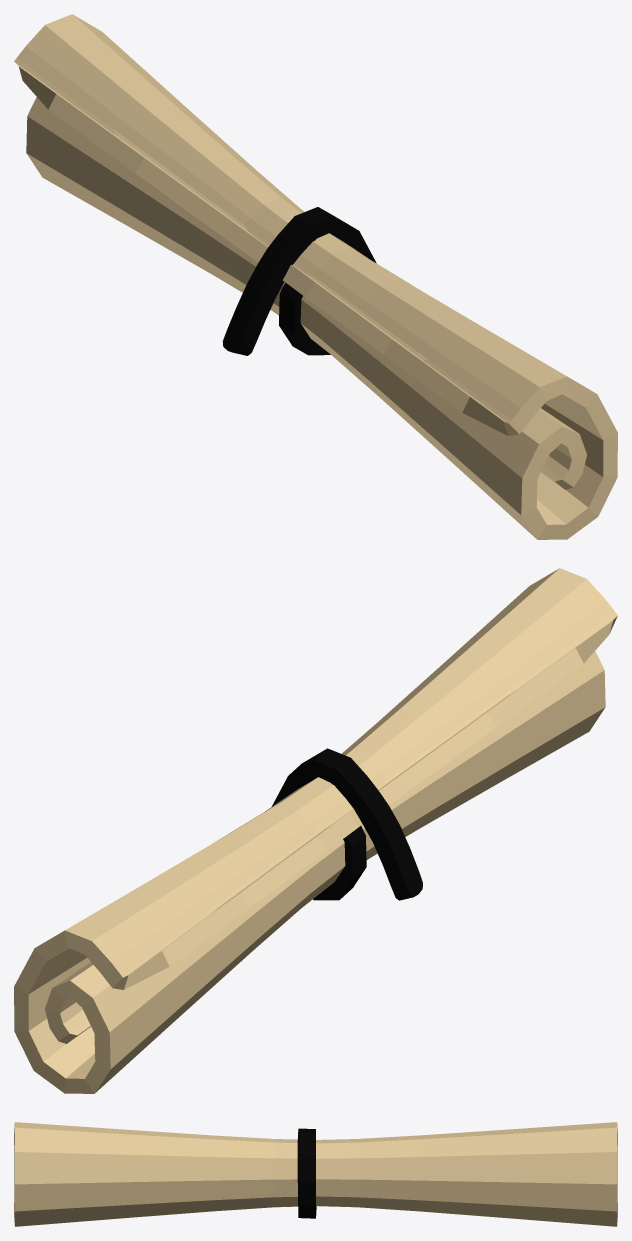
The model's file is scroll2.fbx.
3 renders of one model, top to bottom at view 1: azimuth 30°, elevation 25°; view 2: azimuth 150°, elevation 25°; view 3: azimuth 270°, elevation 25°, orthographic. The views are drawn at different scales.
Visible parts, largest first — view 1: scroll 2; view 2: scroll 2; view 3: scroll 2.
Part boxes in pixels (x1,y1,x2,y2): scroll 2: [14, 14, 617, 539]; scroll 2: [14, 568, 617, 1093]; scroll 2: [14, 1122, 617, 1226].
Size of the model in its own units: 0.2883 by 1.65 by 0.3003.
